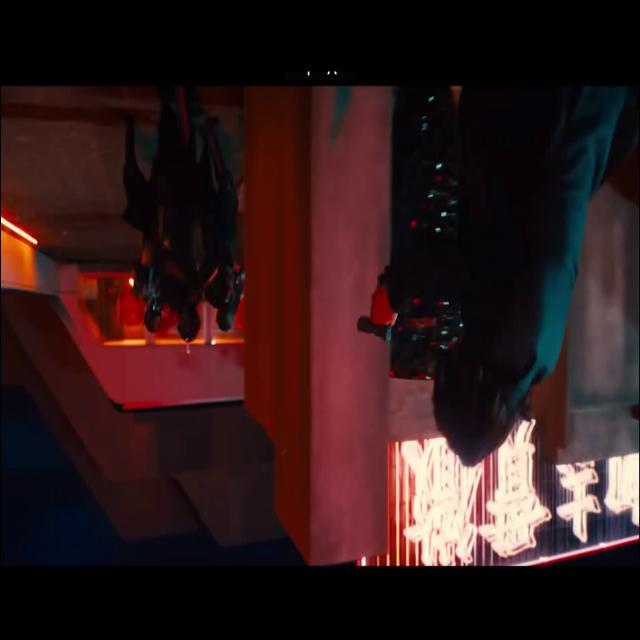weapons: (347, 276, 408, 364)
